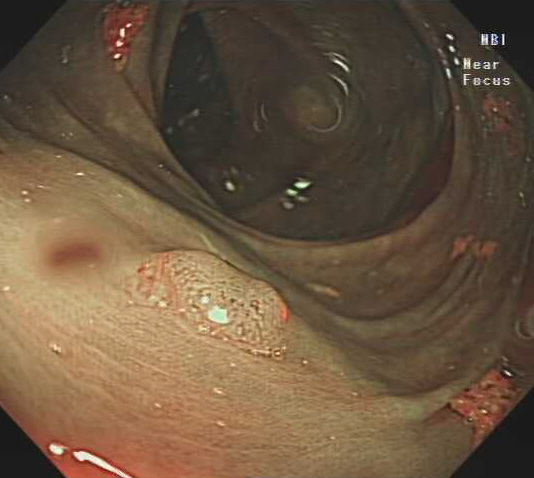adenoma: (135, 248, 291, 363)
